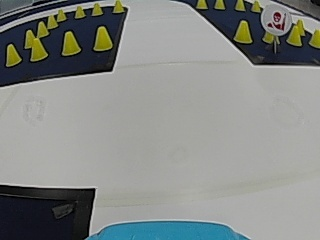evil: (260, 3, 291, 35)
